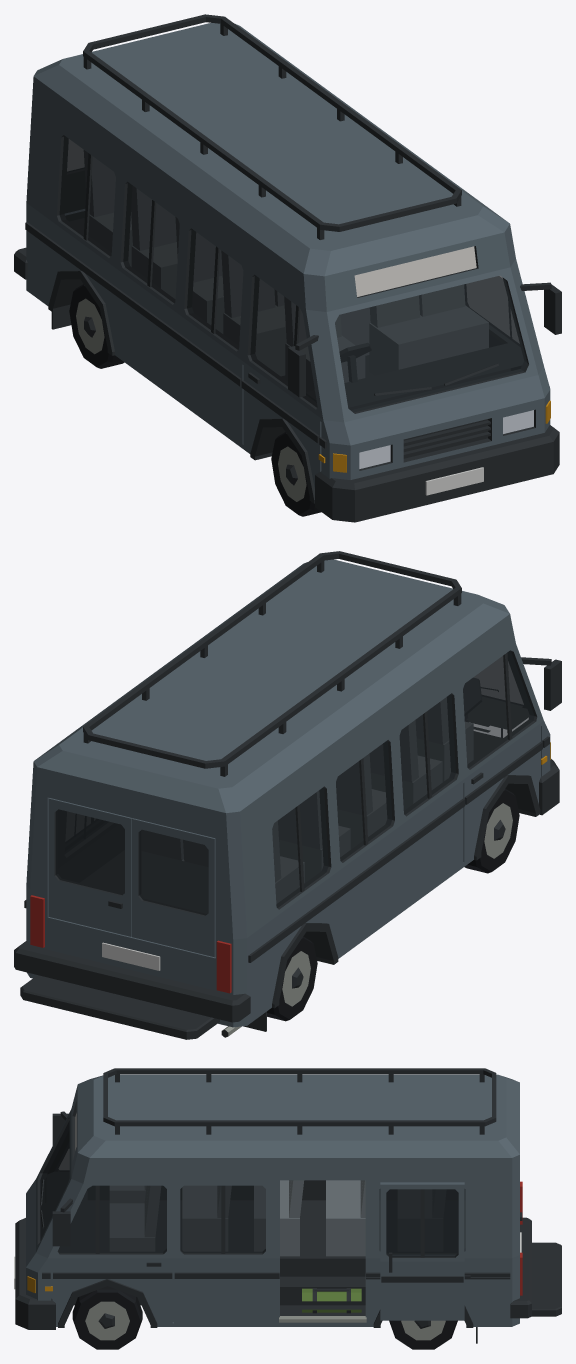
The model's file is team-minibus-f14295.glb.
The picture shows the model from 3 angles, top to bottom: view 1: azimuth 30°, elevation 25°; view 2: azimuth 150°, elevation 25°; view 3: azimuth 270°, elevation 25°; orthographic projection. The views are drawn at different scales.
Parts seen in each view (by area): view 1: body, glass, tyre-rr, tyre-fr; view 2: body, glass, tyre-fr, tyre-rr; view 3: body, glass, tyre-fl, tyre-rl.
Part boxes in pixels (x1=…): body: x1=14, y1=14, x2=561, y2=522; glass: x1=59, y1=136, x2=526, y2=412; tyre-rr: x1=69, y1=284, x2=124, y2=368; tyre-fr: x1=271, y1=432, x2=321, y2=516; body: x1=14, y1=551, x2=561, y2=1039; glass: x1=56, y1=651, x2=534, y2=915; tyre-fr: x1=464, y1=788, x2=519, y2=873; tyre-rr: x1=267, y1=936, x2=317, y2=1021; body: x1=14, y1=1068, x2=561, y2=1343; glass: x1=40, y1=1121, x2=465, y2=1257; tyre-fl: x1=72, y1=1286, x2=142, y2=1349; tyre-rl: x1=389, y1=1320, x2=457, y2=1349.
Bounding box in the file's own units: 2.38 × 2.4 × 5.5.
